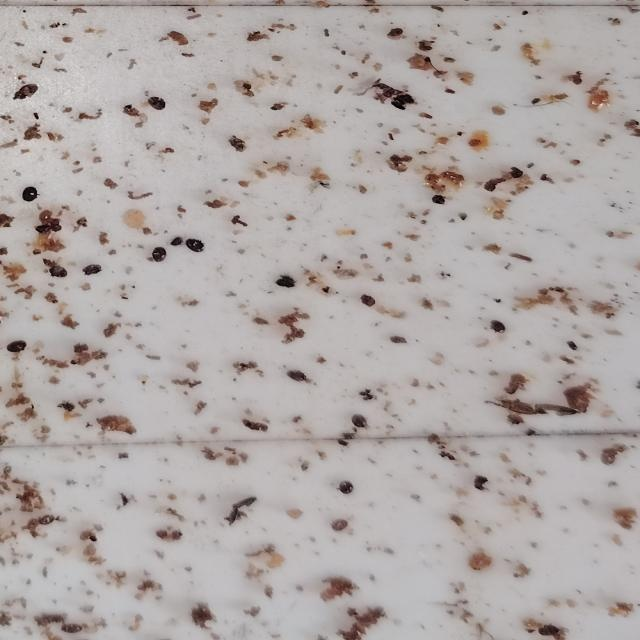varroa: (19, 186, 46, 207), (10, 85, 42, 102), (283, 370, 313, 385), (4, 339, 31, 355), (148, 98, 173, 114), (60, 621, 87, 635), (537, 624, 564, 638), (188, 239, 208, 257), (352, 413, 372, 431), (490, 321, 511, 338), (82, 264, 105, 279), (151, 247, 170, 265), (338, 480, 357, 497), (384, 26, 407, 40), (362, 293, 380, 310), (49, 266, 68, 281)
